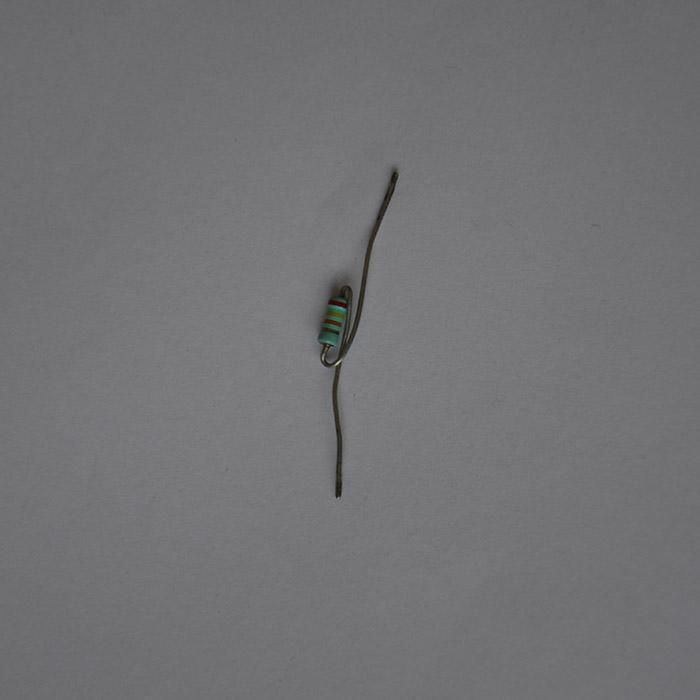resistor: (317, 296, 349, 348)
